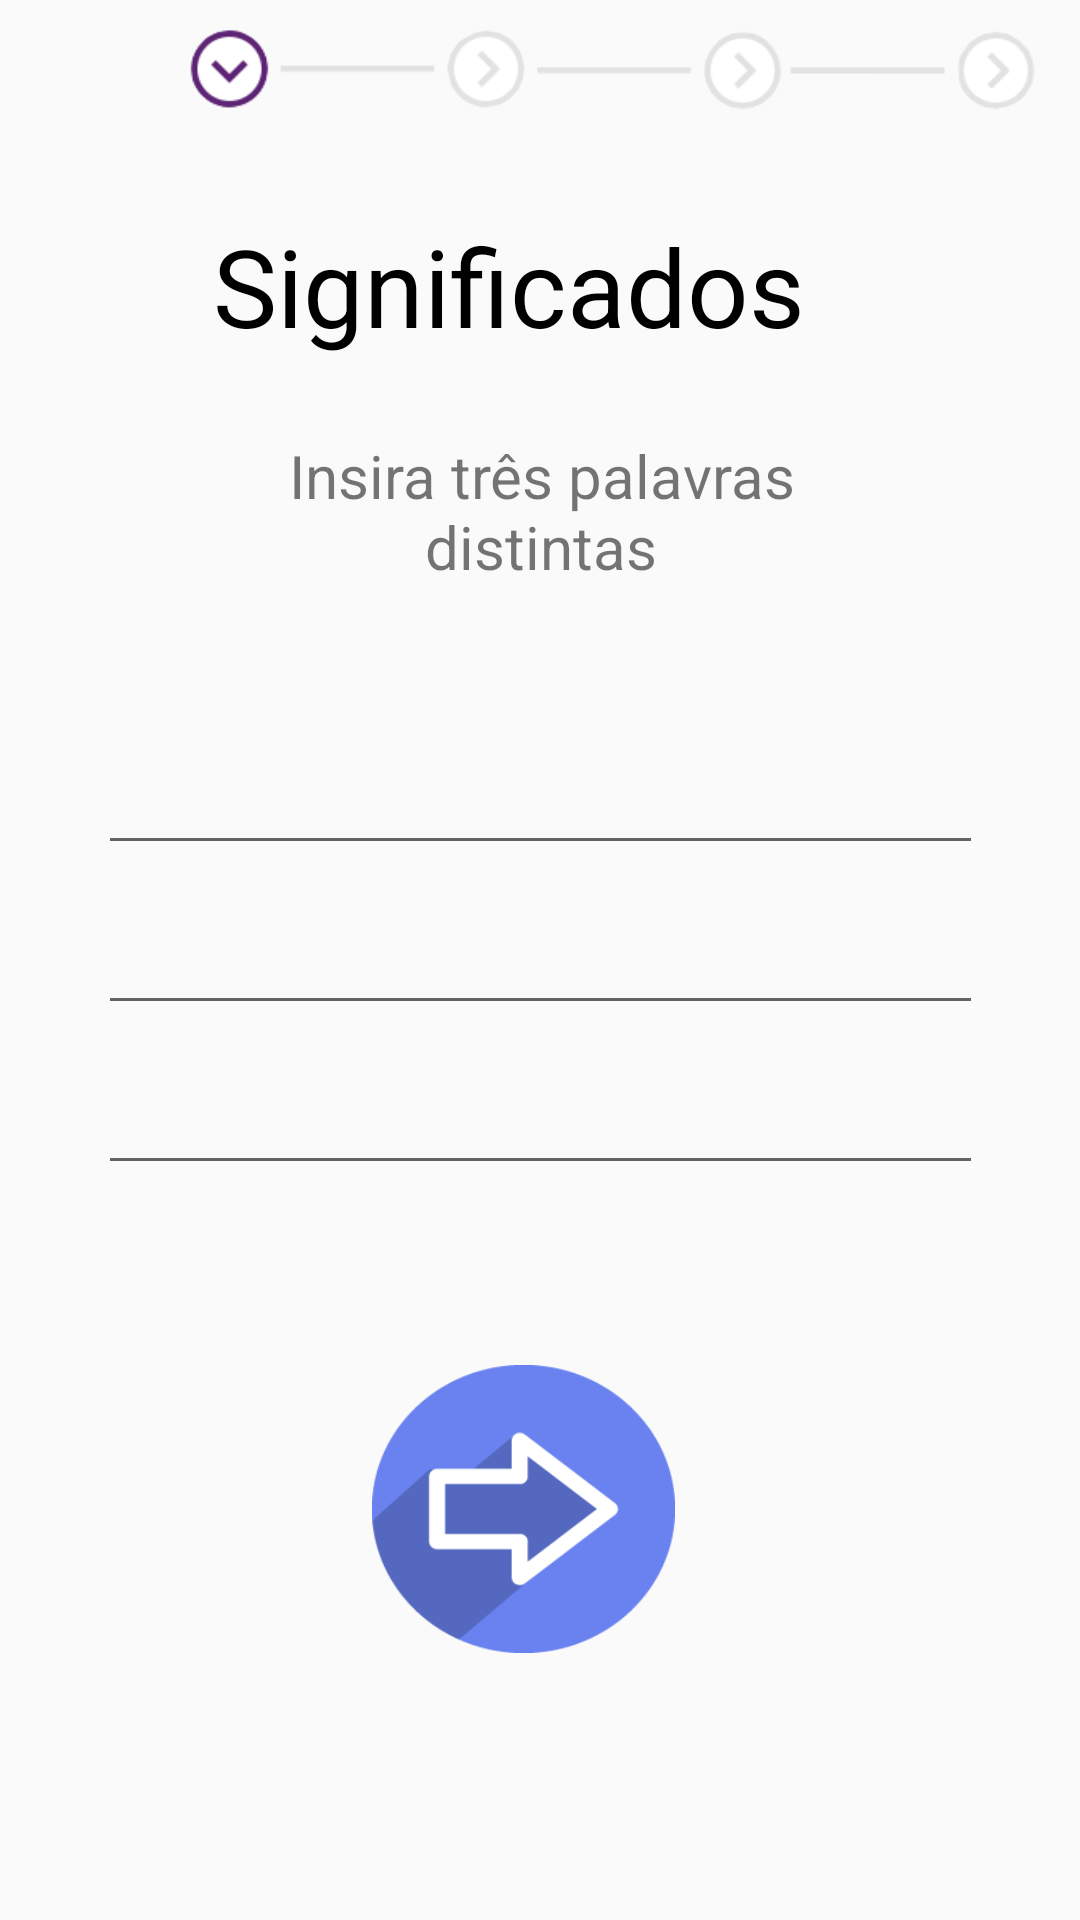

Named icons in this screenshot (1080*1920) and their bounding boxes, BBox(x1, y1, x2, y2):
arrow: BBox(372, 1365, 675, 1653)
